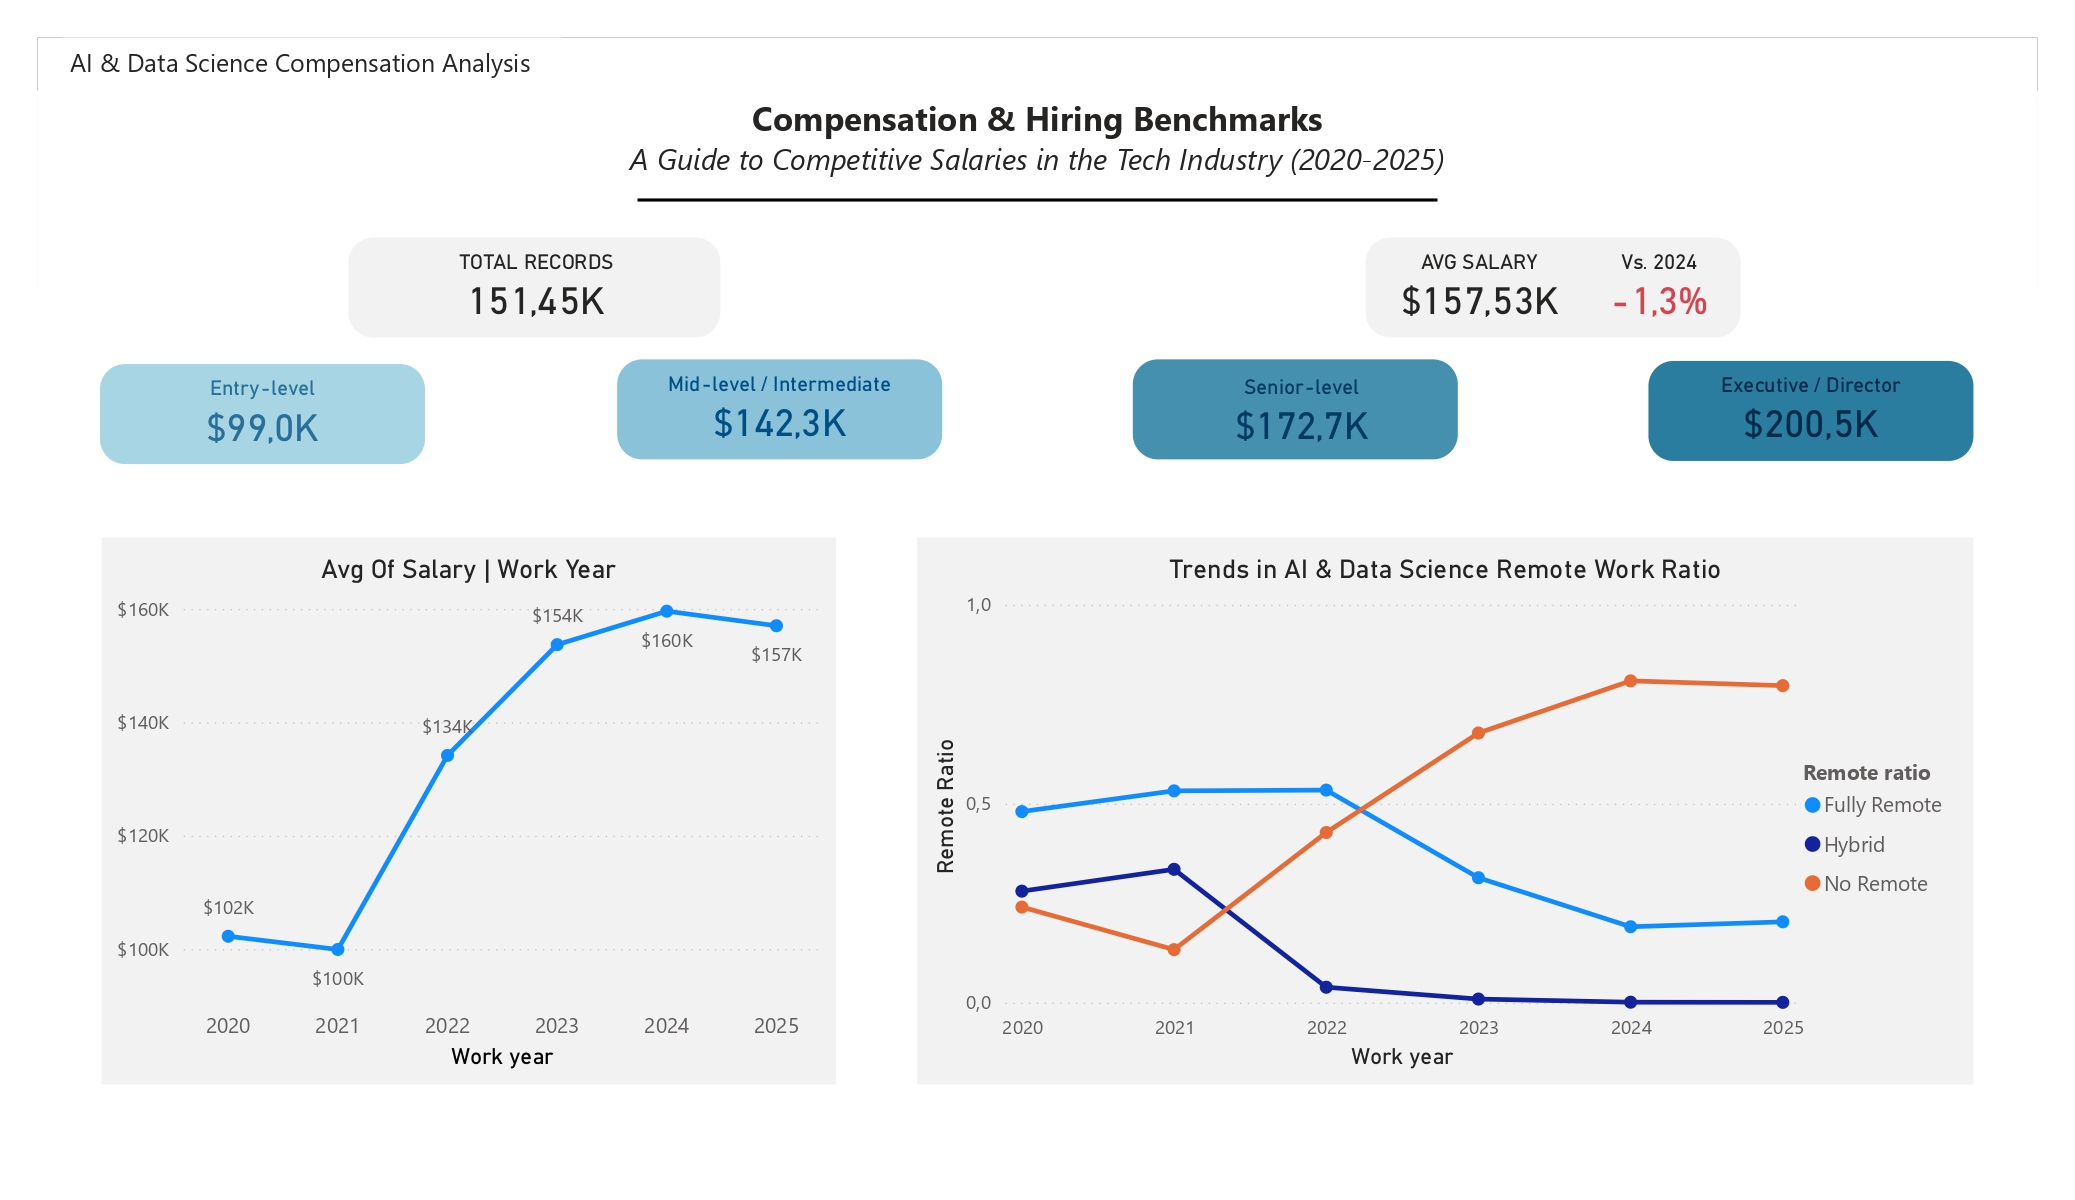

This screenshot's page, from the dashboard's own definition file:
{"tool":"powerbi","page":{"name":"1.Executive Summary","canvas":[1280,720],"ordinal":0},"visuals":[{"type":"textbox","box":[16,0,320,48],"z":0},{"type":"textbox","box":[16,32,1248,64],"z":1000},{"type":"shape","box":[384,96,512,16],"z":2000},{"type":"lineChart","title":"Avg Of Salary | Work Year","fields":{"Category":["salaries.work_year"],"Y":["Avg(salaries.salary_in_usd)","select"]},"box":[40.8,320.2,470.1,349.3],"z":3000},{"type":"shape","box":[850,128.4,240,64],"z":4000,"group":"g1"},{"type":"lineChart","title":"Trends in AI & Data Science Remote Work Ratio","fields":{"Y":["salaries.Pct_RemoteRatio"],"Category":["salaries.work_year"],"Series":["salaries.Remote_Work_Type"]},"box":[563.3,320.2,675.4,349.3],"z":4000},{"type":"shape","box":[198.6,128.4,238,64],"z":4500,"group":"g2"},{"type":"group","id":"g1","title":"Group 7","box":[850,128.4,240.5,63.5],"z":5000},{"type":"card","title":"TOTAL RECORDS","fields":{"Values":["CountNonNull(salaries.salary_in_usd)"]},"box":[254.6,136.4,128,48],"z":5000,"group":"g2"},{"type":"card","title":"AVG SALARY","fields":{"Values":["Avg(salaries.salary_in_usd)"]},"box":[865.4,136.4,115.4,48],"z":5000,"group":"g1"},{"type":"group","id":"g2","title":"Group 1","box":[198.6,128.4,237.8,63.5],"z":6000},{"type":"shape","box":[40,208.6,208,64],"z":6000,"group":"g6"},{"type":"shape","box":[370.7,206.2,208,64],"z":7000,"group":"g4"},{"type":"group","id":"g3","title":"Group 2","box":[700.9,206.2,208,64],"z":7000},{"type":"group","id":"g4","title":"Group 3","box":[370.7,206.2,208,64],"z":8000},{"type":"shape","box":[700.9,206.2,208,64],"z":8000,"group":"g3"},{"type":"group","id":"g5","title":"Group 4","box":[1031.1,206.8,208.1,63.5],"z":9000},{"type":"shape","box":[1031.1,206.8,208,64],"z":10000,"group":"g5"},{"type":"group","id":"g6","title":"Group 5","box":[40,208.6,208.6,62.9],"z":10000},{"type":"card","title":"Mid-level / Intermediate","fields":{"Values":["salaries.Mid-level"]},"box":[386.7,214.2,176,48],"z":11000,"group":"g4"},{"type":"card","title":"Senior-level","fields":{"Values":["salaries.Senior-level"]},"box":[721.1,215.9,176,48],"z":12000,"group":"g3"},{"type":"card","title":"Executive / Director","fields":{"Values":["salaries.Executive"]},"box":[1047.1,214.8,176,48],"z":13000,"group":"g5"},{"type":"card","title":"Vs. 2024","fields":{"Values":["salaries.Avg_Sal_Change_Vs2024"]},"box":[994,136.4,88,48],"z":14002,"group":"g1"},{"type":"card","title":"Entry-level","fields":{"Values":["salaries.Entry-level"]},"box":[56,216.6,176,48],"z":16000,"group":"g6"}]}

Visuals, with their boxes on the page's 1280x720 design canvas (x1, y1, x2, y2). These are canvas units, not pixel positions in the 2075x1200 screenshot, which may show the page scaled, cropped or inside an application window:
textbox: x1=16, y1=0, x2=336, y2=48
textbox: x1=16, y1=32, x2=1264, y2=96
shape: x1=384, y1=96, x2=896, y2=112
"Avg Of Salary | Work Year" lineChart: x1=41, y1=320, x2=511, y2=670
shape: x1=850, y1=128, x2=1090, y2=192
"Trends in AI & Data Science Remote Work Ratio" lineChart: x1=563, y1=320, x2=1239, y2=670
shape: x1=199, y1=128, x2=437, y2=192
"Group 7" group: x1=850, y1=128, x2=1090, y2=192
"TOTAL RECORDS" card: x1=255, y1=136, x2=383, y2=184
"AVG SALARY" card: x1=865, y1=136, x2=981, y2=184
"Group 1" group: x1=199, y1=128, x2=436, y2=192
shape: x1=40, y1=209, x2=248, y2=273
shape: x1=371, y1=206, x2=579, y2=270
"Group 2" group: x1=701, y1=206, x2=909, y2=270
"Group 3" group: x1=371, y1=206, x2=579, y2=270
shape: x1=701, y1=206, x2=909, y2=270
"Group 4" group: x1=1031, y1=207, x2=1239, y2=270
shape: x1=1031, y1=207, x2=1239, y2=271
"Group 5" group: x1=40, y1=209, x2=249, y2=272
"Mid-level / Intermediate" card: x1=387, y1=214, x2=563, y2=262
"Senior-level" card: x1=721, y1=216, x2=897, y2=264
"Executive / Director" card: x1=1047, y1=215, x2=1223, y2=263
"Vs. 2024" card: x1=994, y1=136, x2=1082, y2=184
"Entry-level" card: x1=56, y1=217, x2=232, y2=265
